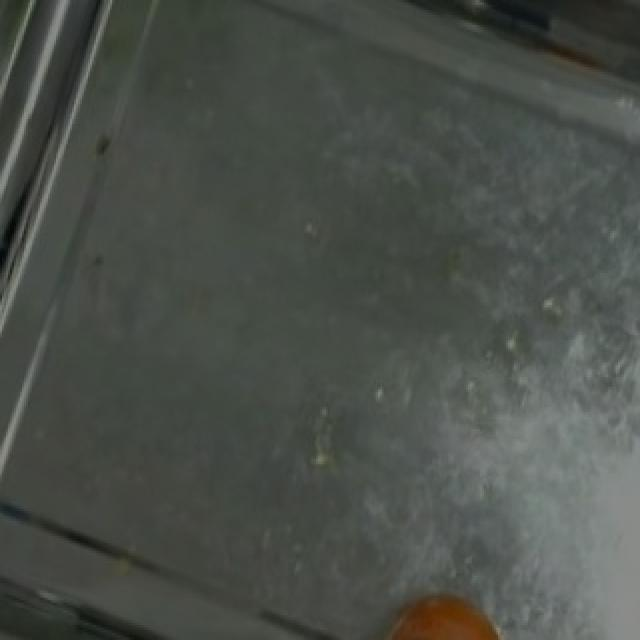Fruit: (356, 578, 530, 640)
